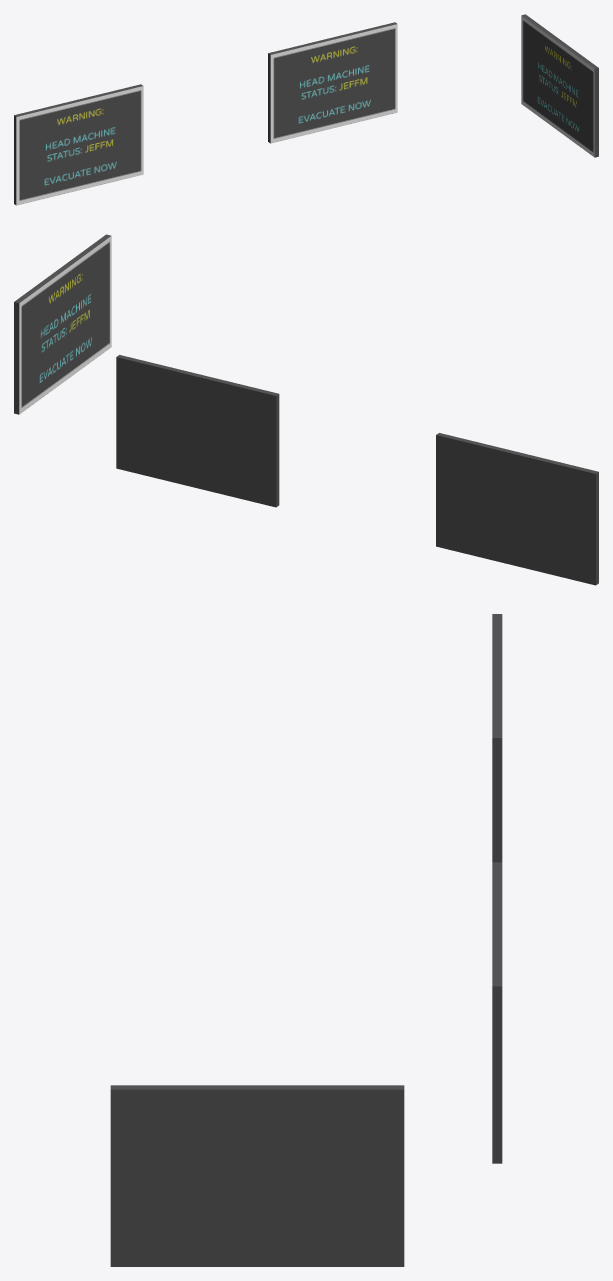
The model's file is jeff_warning.glb.
The picture shows the model from 3 angles, top to bottom: view 1: azimuth 30°, elevation 25°; view 2: azimuth 150°, elevation 25°; view 3: azimuth 270°, elevation 25°; orthographic projection. The views are drawn at different scales.
Visible parts, largest first — view 1: Cube.601, Cube.603, Cube.604; view 2: Cube.603, Cube.601, Cube.604; view 3: Cube.604, Cube.603, Cube.601.
Boxes of the visible parts, box(x1,y1,x2,y2) form: Cube.601: box(14, 84, 143, 205); Cube.603: box(268, 22, 397, 143); Cube.604: box(521, 14, 598, 157); Cube.603: box(116, 355, 279, 507); Cube.601: box(436, 433, 598, 585); Cube.604: box(14, 234, 111, 414); Cube.604: box(110, 1085, 404, 1266); Cube.603: box(492, 862, 502, 1163); Cube.601: box(492, 614, 502, 862).
Size of the model in its own units: 23 by 4 by 8.
1 material, 1 textured.
